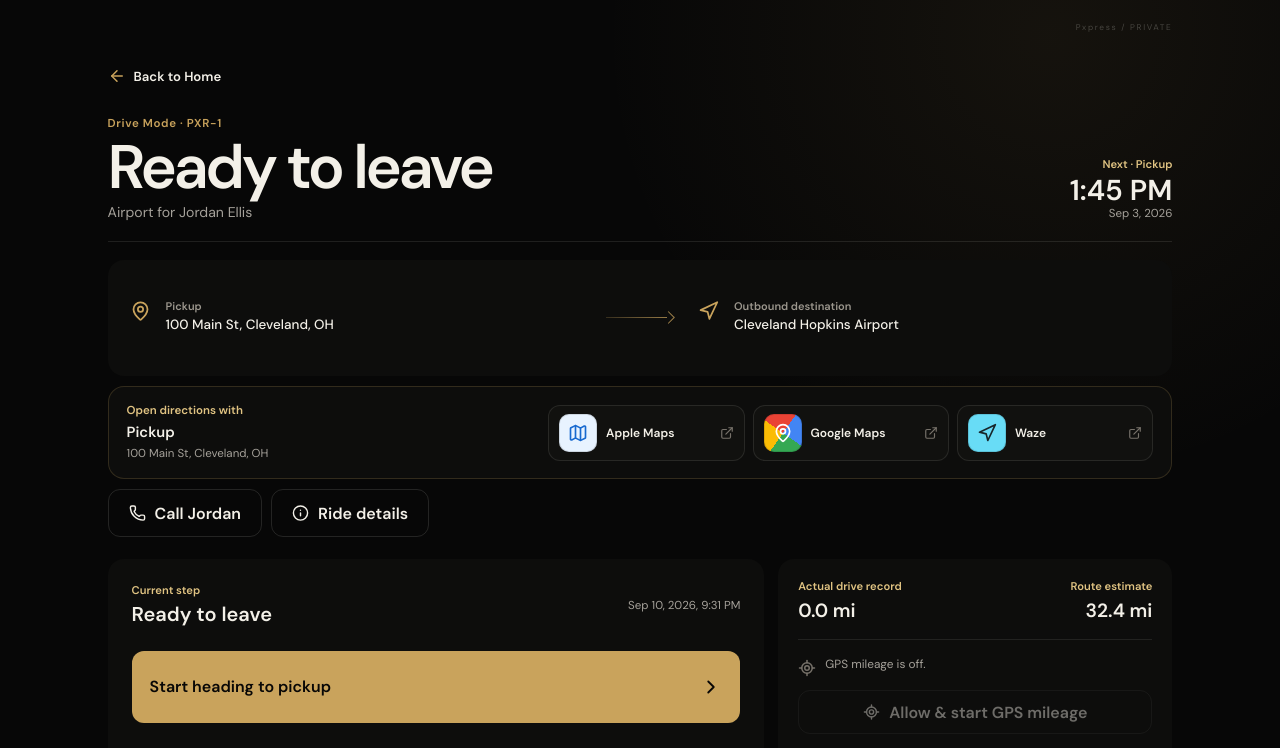
Scenario: Drive Mode owner workflow › shows a truthful manual fallback when foreground location permission is denied
What coordinates should you click on to do the following:
click the button "Start heading to pickup"
I would click on:
 (240, 687)
Its box is x1=132 y1=651 x2=740 y2=723.
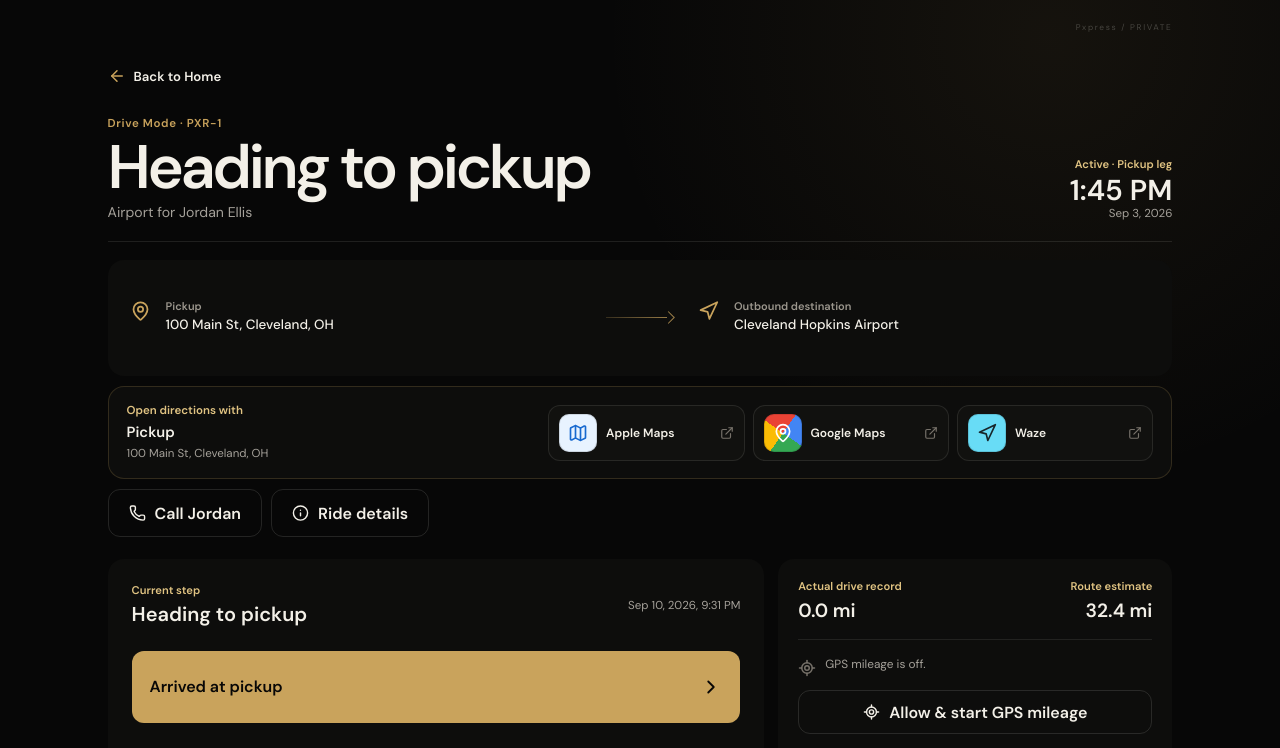
Check: the button "Arrived at pickup" is shown, box x1=132 y1=651 x2=740 y2=723
What coordinates should you click on to do the following:
click the button "Allow & start GPS mileage"
I would click on:
 (975, 712)
Its box is x1=798 y1=690 x2=1152 y2=734.
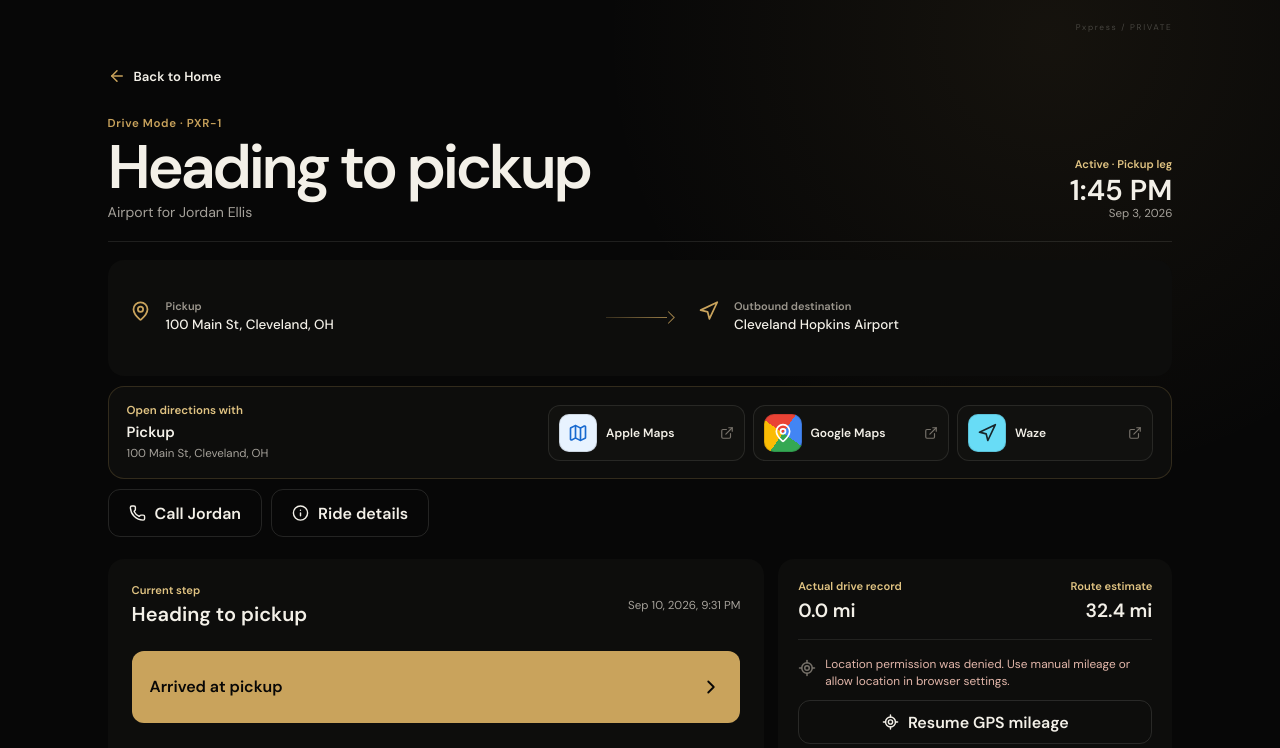
Check: the text "Use manual mileage" is shown, box x1=825 y1=656 x2=1130 y2=689
